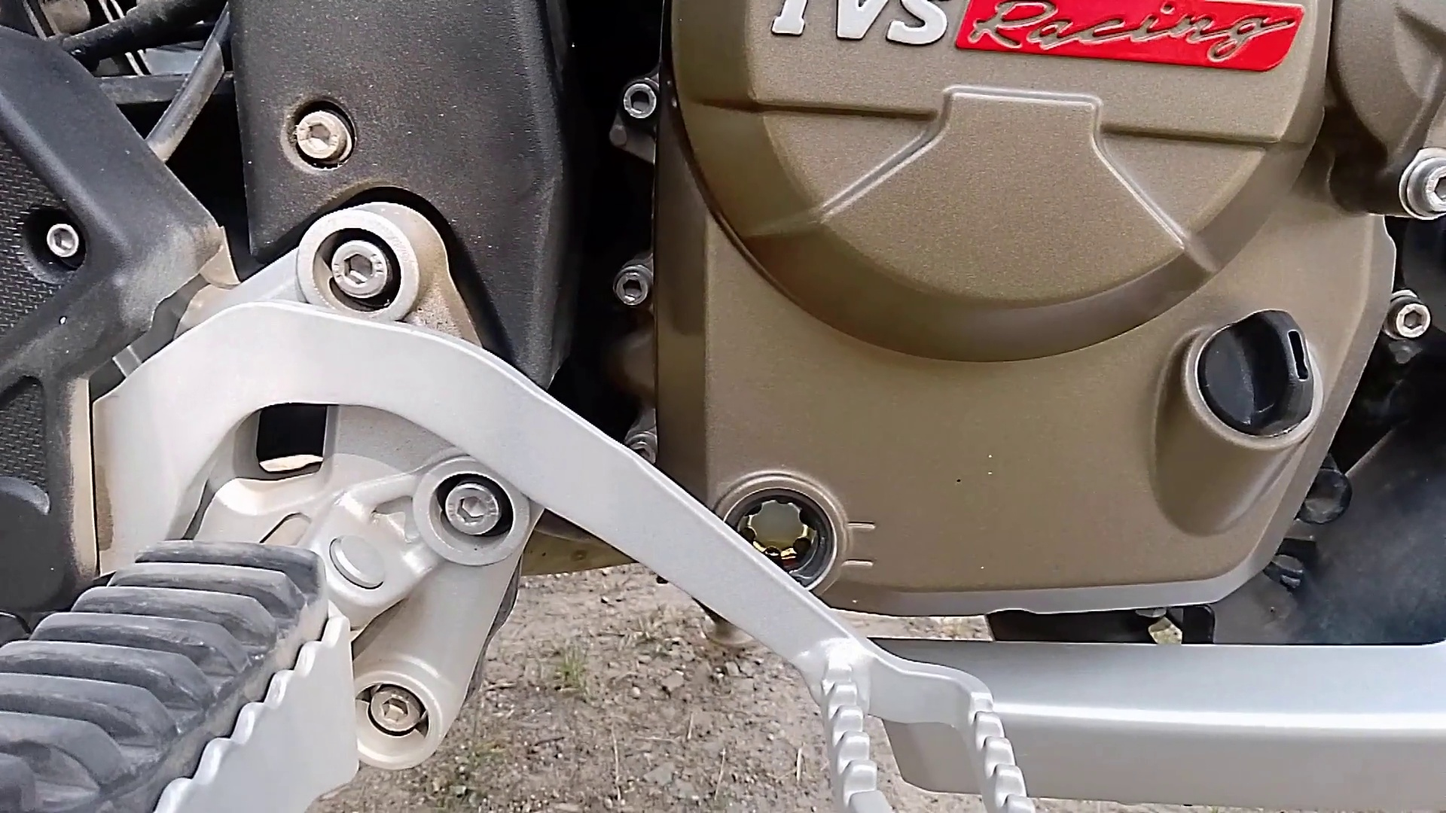engine: (606, 0, 1446, 664)
oil_cap: (1179, 297, 1344, 476)
oil_marker: (693, 463, 898, 612)
